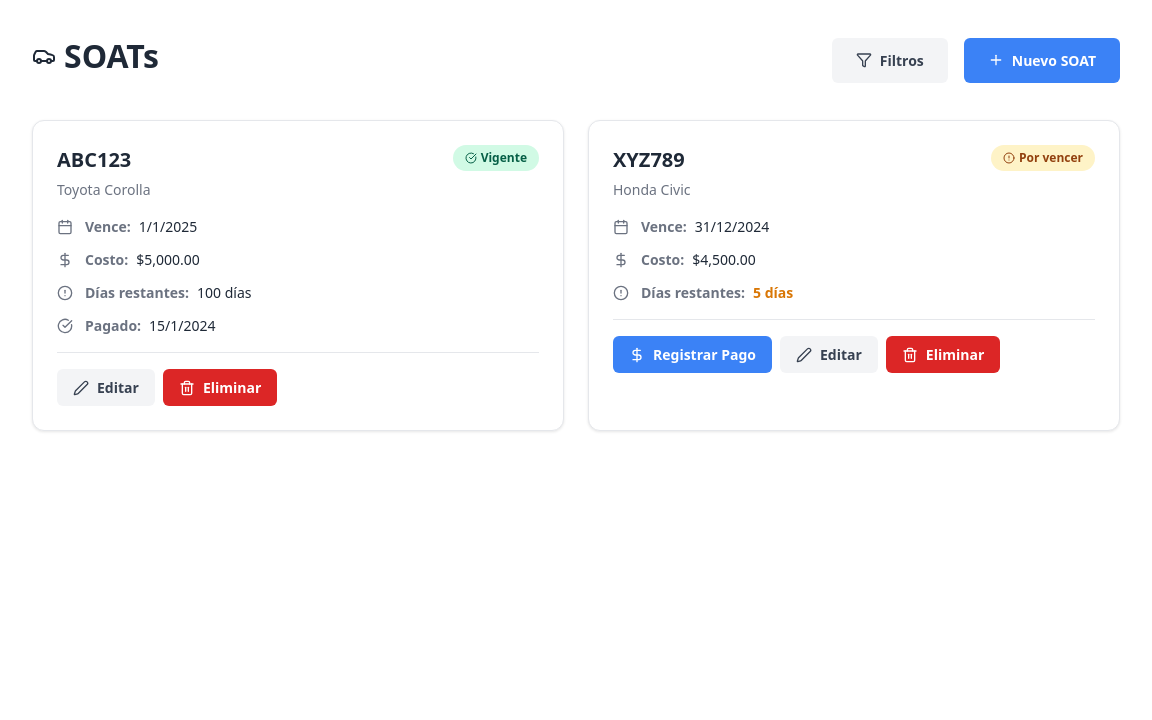
Scenario: SOATs › debe abrir modal para crear SOAT
Expected: the heading "ABC123" is shown, [57,146,131,173]
# Buscar el botón en el header (no en el empty state)
Click the button "Nuevo SOAT" at coordinates (1042, 60), box [964,38,1120,82]
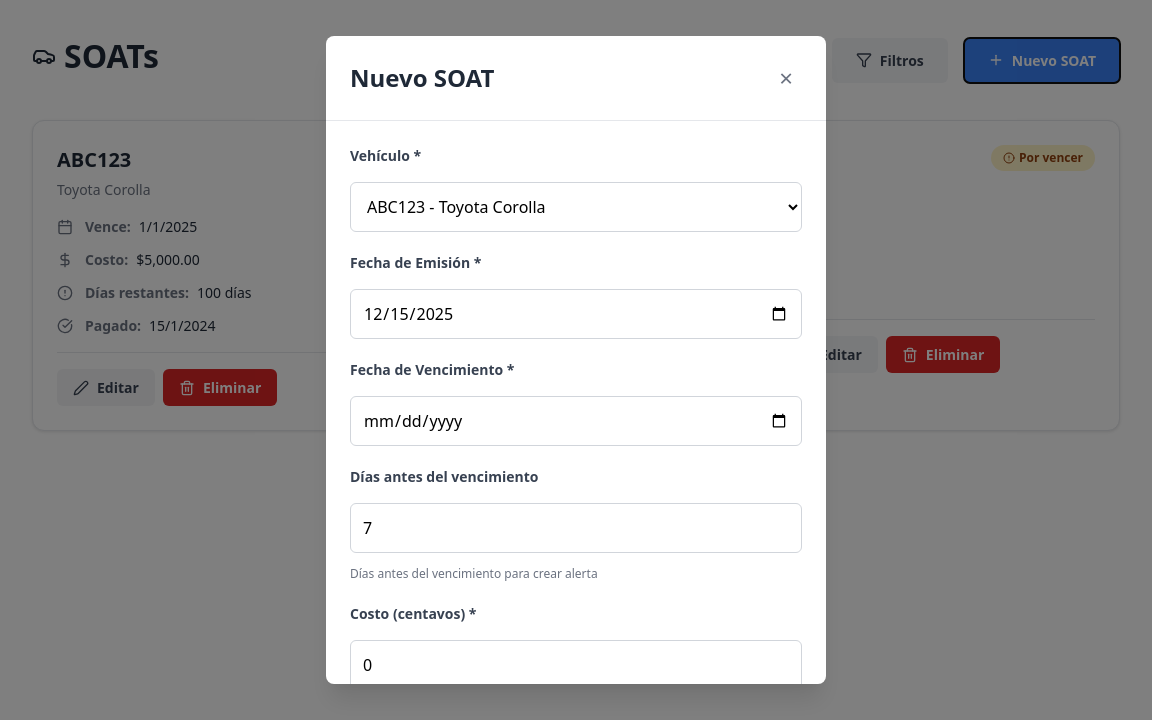
Now the dropdown labelled "Vehículo *" is shown, box [350,182,802,232]
